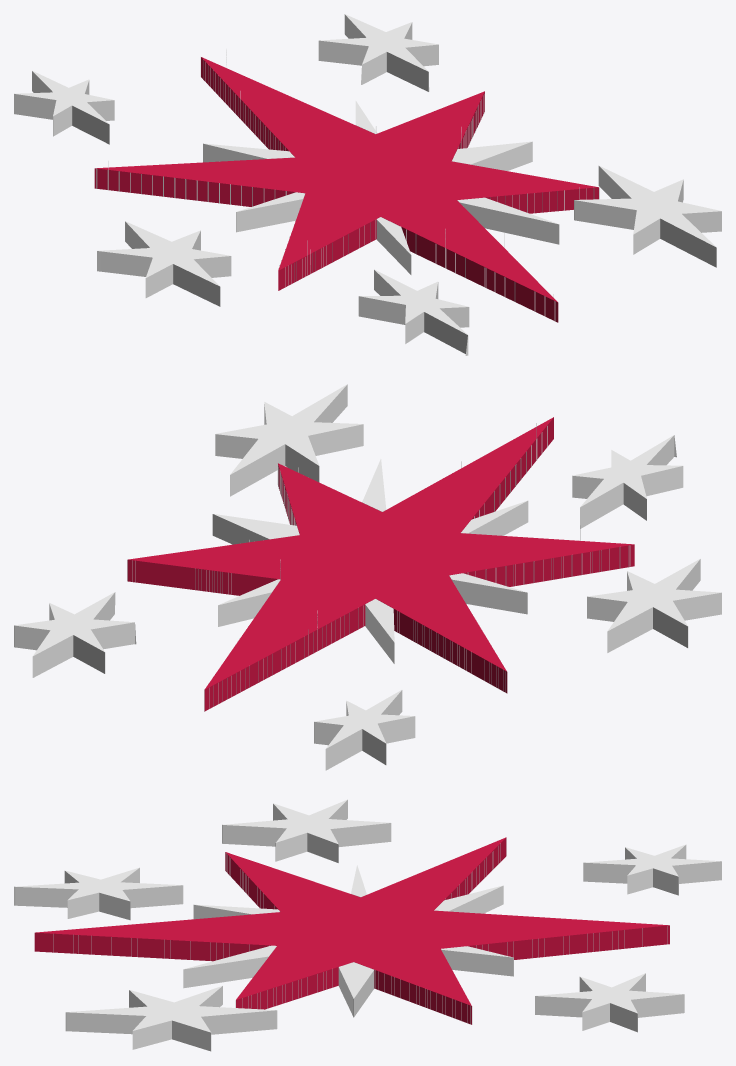
File: twilight.obj
The picture shows the model from 3 angles, top to bottom: view 1: azimuth 30°, elevation 25°; view 2: azimuth 150°, elevation 25°; view 3: azimuth 270°, elevation 25°; orthographic projection. The views are drawn at different scales.
Parts seen in each view (by area): view 1: path13009; view 2: path13009; view 3: path13009.
Part boxes in pixels (left/top/right/bottom): path13009: left=14, top=14, right=721, bottom=355; path13009: left=14, top=384, right=721, bottom=770; path13009: left=14, top=799, right=721, bottom=1051.
Size of the model in its own units: 0.2646 by 0.02 by 0.3395.
